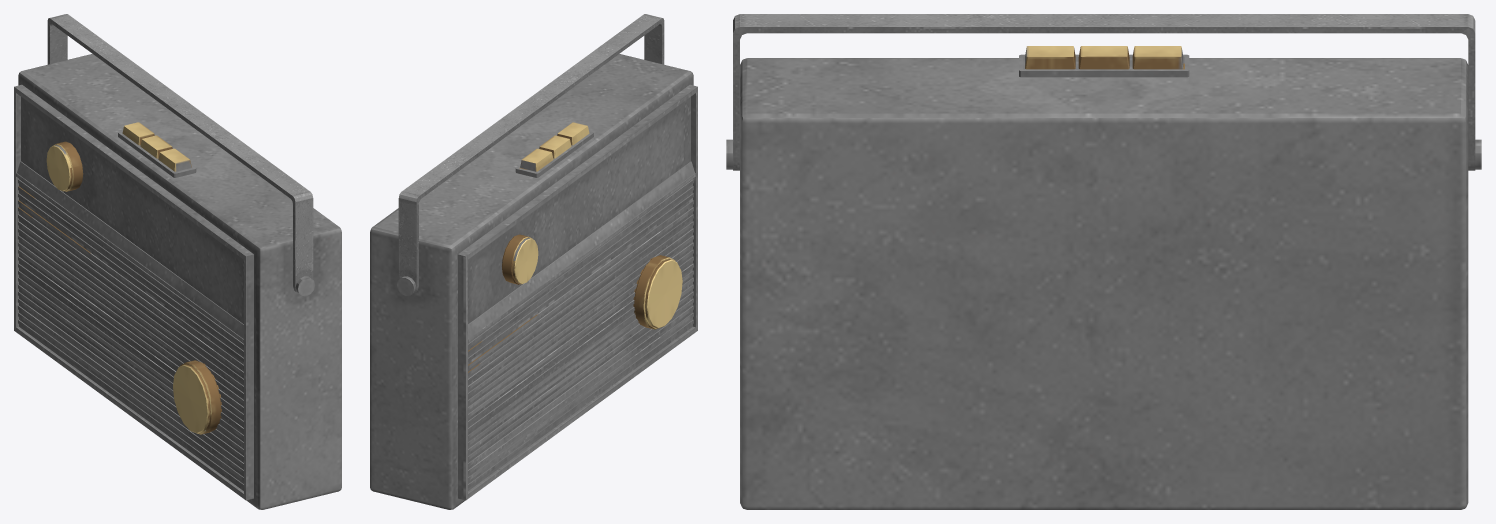
The model's file is fbx_Radio.fbx.
3 renders of one model, left to right at view 1: azimuth 30°, elevation 25°; view 2: azimuth 150°, elevation 25°; view 3: azimuth 270°, elevation 25°, orthographic. The views are drawn at different scales.
Parts seen in each view (by area): view 1: pasted__polySurface77, pasted__pCube264; view 2: pasted__polySurface77, pasted__pCube264; view 3: pasted__polySurface77, pasted__pCube264.
Part boxes in pixels (left/top/right/bottom): pasted__polySurface77: left=14, top=54, right=341, bottom=509; pasted__pCube264: left=47, top=14, right=313, bottom=294; pasted__polySurface77: left=370, top=54, right=697, bottom=509; pasted__pCube264: left=398, top=14, right=664, bottom=294; pasted__polySurface77: left=726, top=46, right=1481, bottom=509; pasted__pCube264: left=733, top=14, right=1475, bottom=170.
Size of the model in its own units: 0.0741 by 0.2099 by 0.3112.
Materials: 1 (1 with a texture image).
